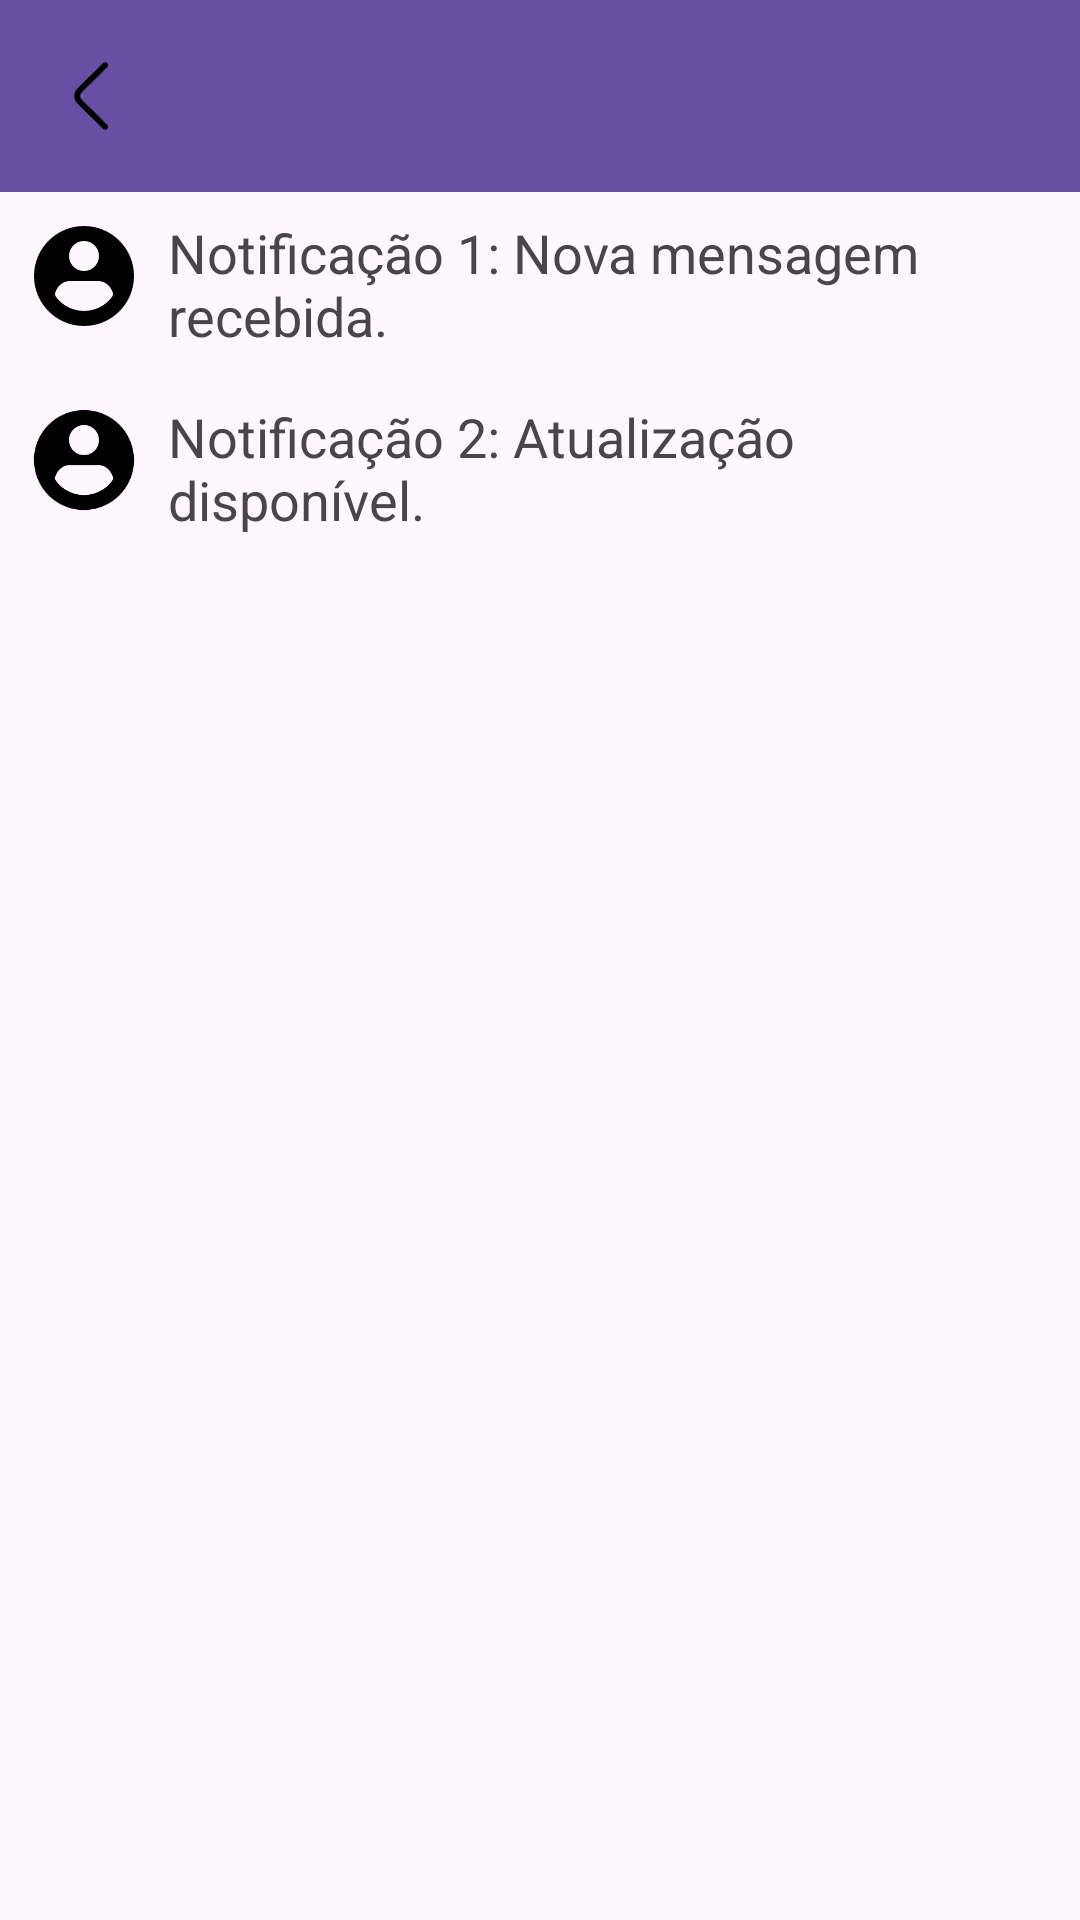

Icons on this 1080px×1920px Android screen, each with the point to tap as point (x, y):
Back Button: point (91, 96)
